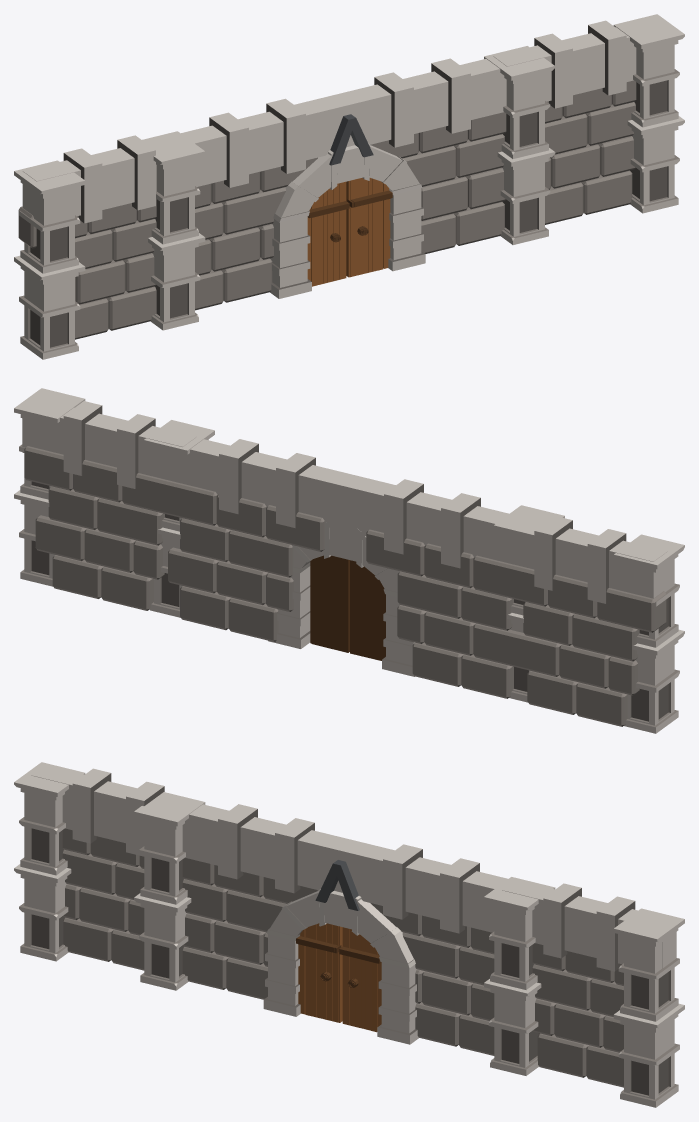
File: CLOSEGATE (1).fbx
3 views of the same model, one above another, from view 1: azimuth 30°, elevation 25°; view 2: azimuth 150°, elevation 25°; view 3: azimuth 330°, elevation 25° (orthographic).
Parts seen in each view (by area): view 1: Cube.841; view 2: Cube.841; view 3: Cube.841.
Boxes of the visible parts, left/top/right/bottom form: Cube.841: left=14, top=14, right=684, bottom=359; Cube.841: left=14, top=388, right=684, bottom=733; Cube.841: left=14, top=762, right=684, bottom=1107.
Size of the model in its own units: 13135 by 3453 by 1006.
